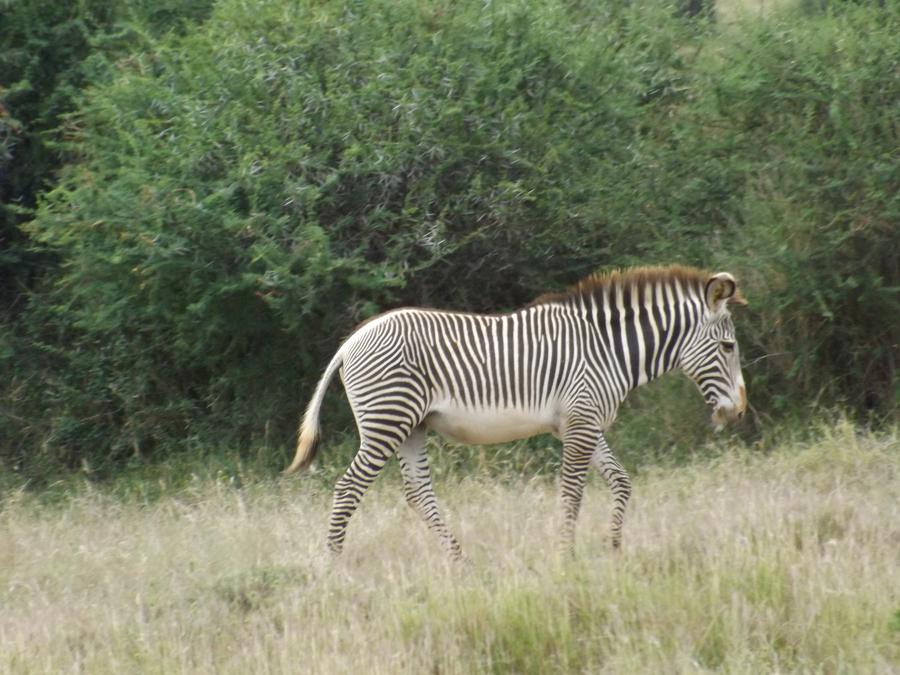zebra_grevys: (312, 296, 608, 440)
